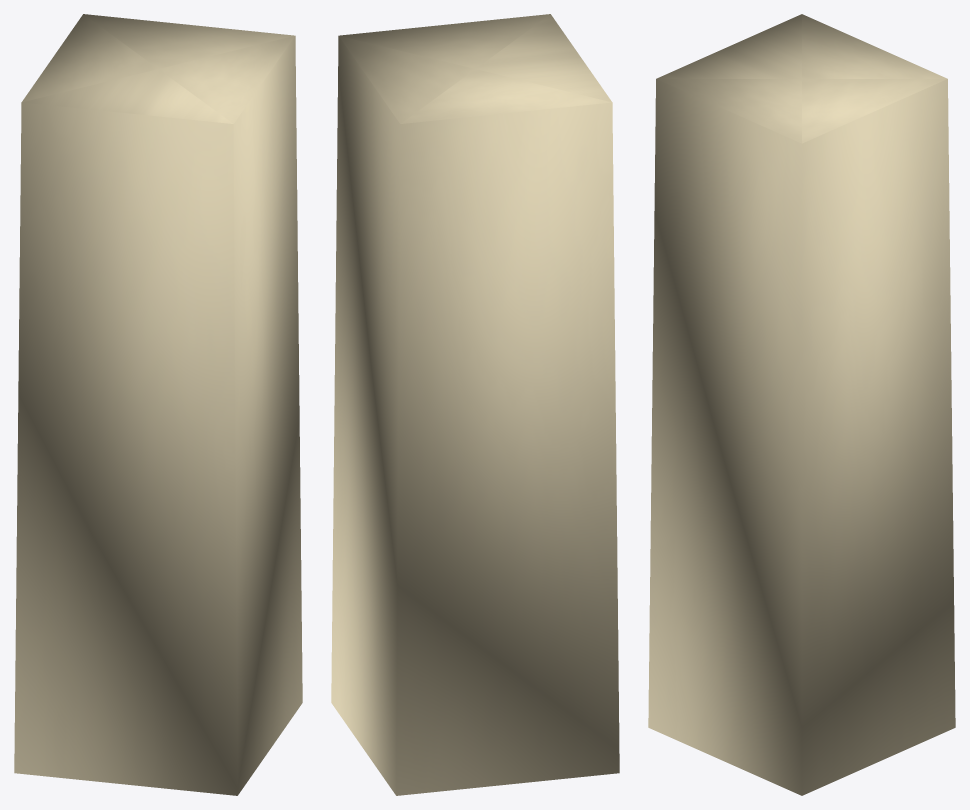
Rendered from Candle_2_LOD2.gltf.
The picture shows the model from 3 angles, left to right: view 1: azimuth 30°, elevation 25°; view 2: azimuth 150°, elevation 25°; view 3: azimuth 270°, elevation 25°; orthographic projection. The views are drawn at different scales.
Parts seen in each view (by area): view 1: Candle_2_LOD2; view 2: Candle_2_LOD2; view 3: Candle_2_LOD2.
Boxes of the visible parts, x1,y1,x2,y2 form: Candle_2_LOD2: [14, 14, 302, 795]; Candle_2_LOD2: [331, 14, 619, 795]; Candle_2_LOD2: [648, 14, 955, 795].
Size of the model in its own units: 0.1051 by 0.233 by 0.1.
Materials: 1 (1 with a texture image).
